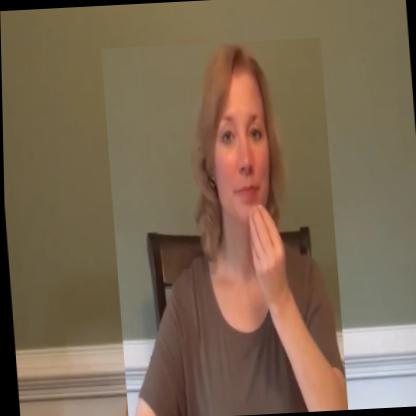Food: (100, 37, 345, 416)
